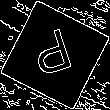P_S: (29, 25, 81, 85)
